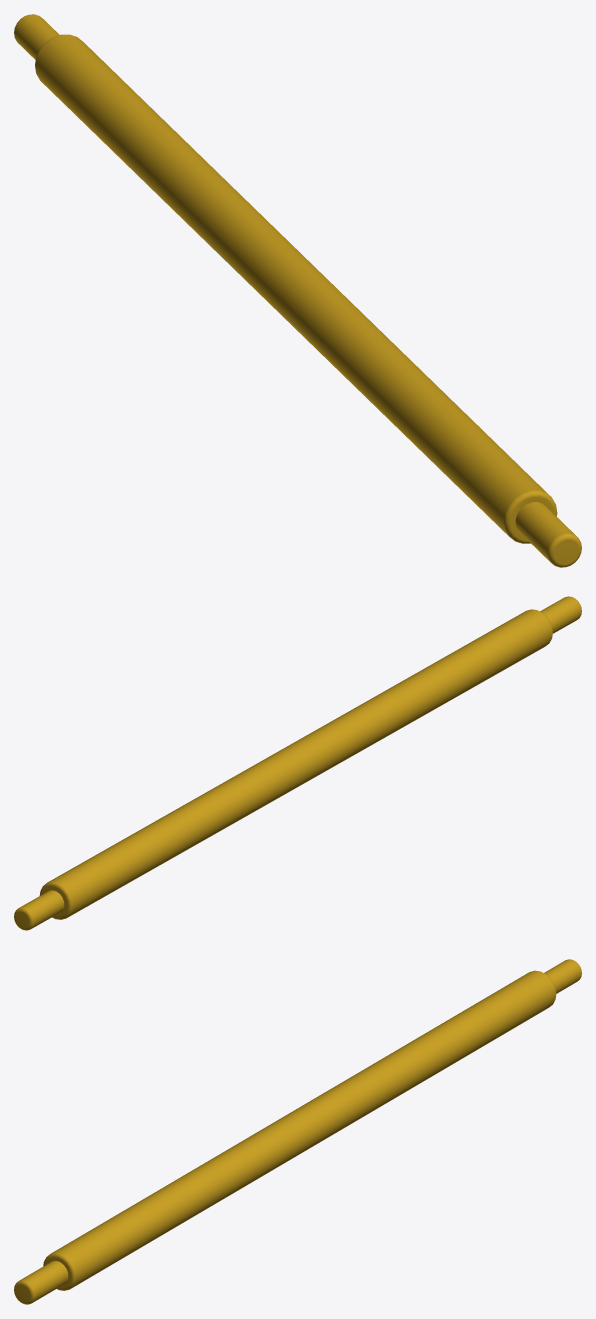
Rendered from soporte_bandera.fbx.
3 views of the same model, one above another, from view 1: azimuth 30°, elevation 25°; view 2: azimuth 150°, elevation 25°; view 3: azimuth 330°, elevation 25° (orthographic). The views are drawn at different scales.
Parts seen in each view (by area): view 1: pCylinder38; view 2: pCylinder38; view 3: pCylinder38.
Part boxes in pixels (x1,y1,x2,y2): pCylinder38: (14, 14, 581, 567); pCylinder38: (14, 596, 581, 930); pCylinder38: (14, 959, 581, 1304).
Bounding box in the file's own units: 12.9 × 4.65 × 93.75.
